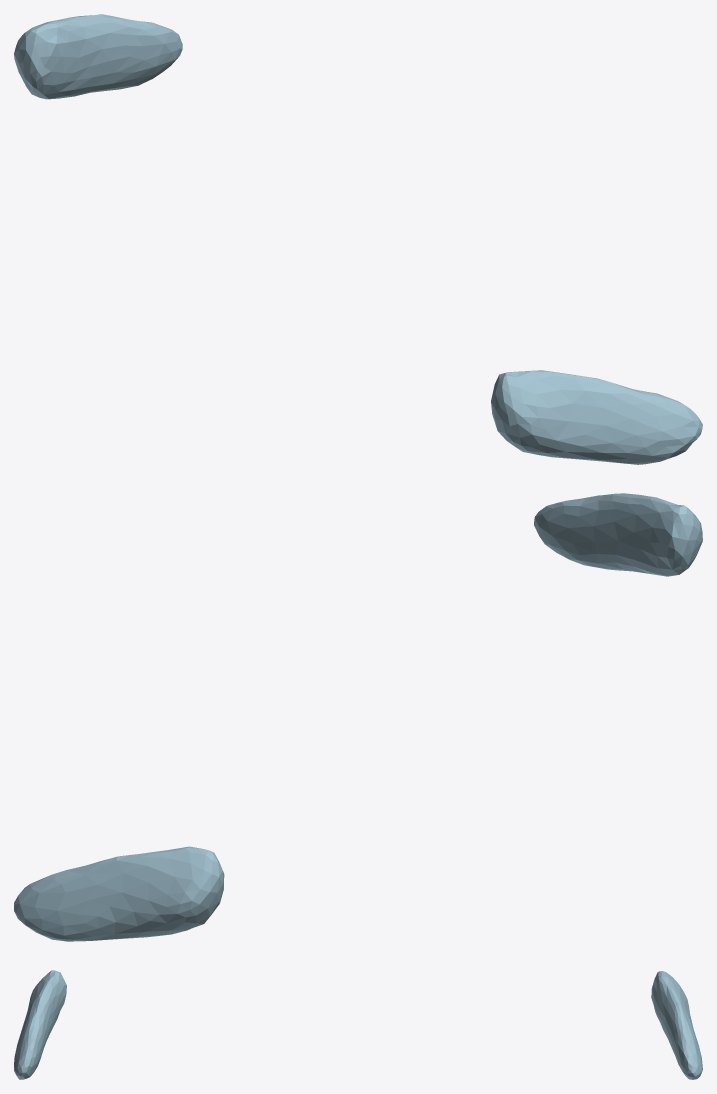
The picture shows the model from 3 angles, top to bottom: view 1: azimuth 30°, elevation 25°; view 2: azimuth 150°, elevation 25°; view 3: azimuth 270°, elevation 25°; orthographic projection. The views are drawn at different scales.
Visible parts, largest first — view 1: 551.obj; view 2: 551.obj; view 3: 551.obj.
Part boxes in pixels (box(x1,y1,x2,y2)): 551.obj: box(14, 14, 702, 464); 551.obj: box(14, 493, 702, 941); 551.obj: box(14, 970, 702, 1079).
Size of the model in its own units: 1211 by 648 by 6078.
